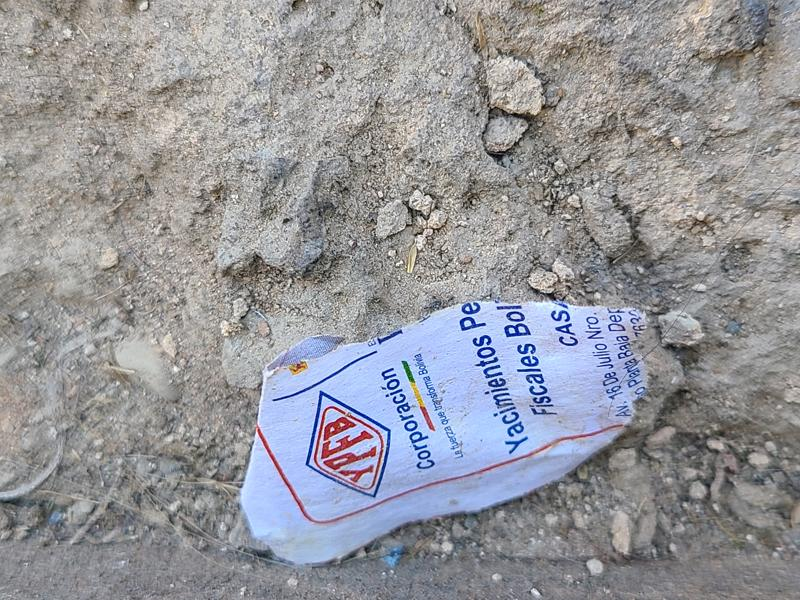papel: (238, 301, 649, 568)
